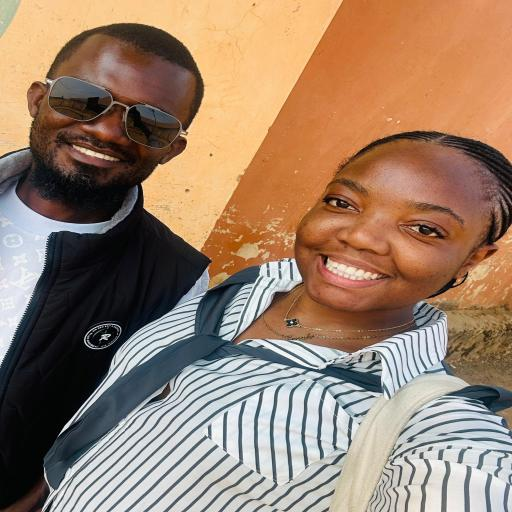MATTHIEU: (32, 15, 199, 208)
